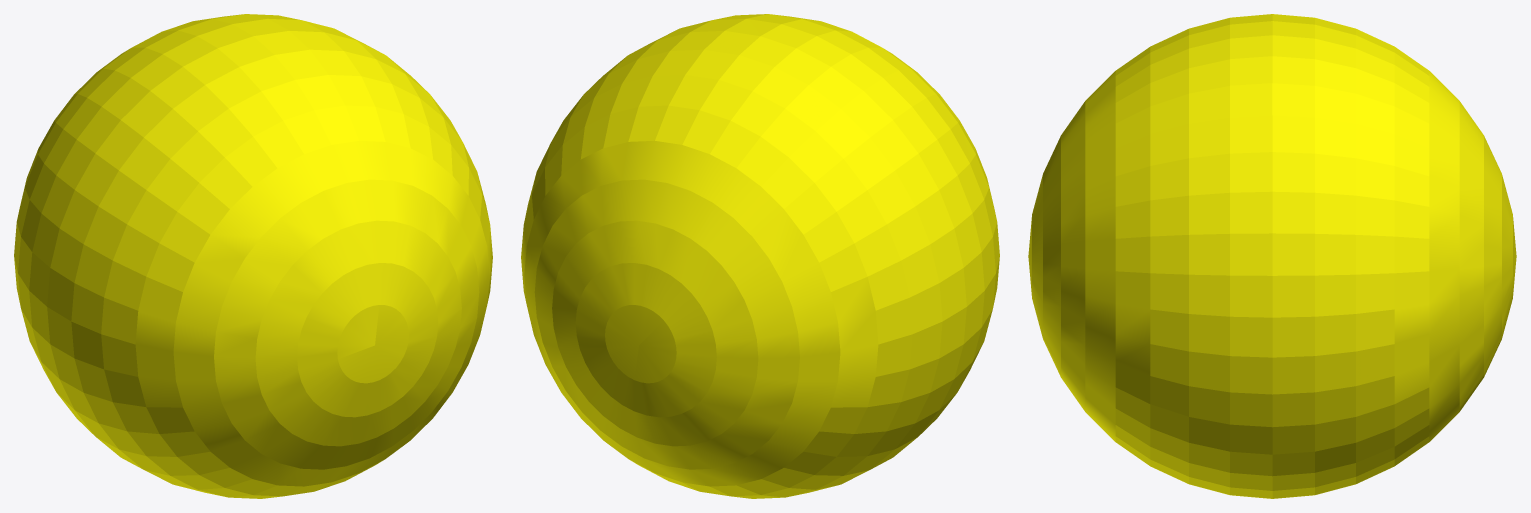
The model's file is sole.gltf.
3 renders of one model, left to right at view 1: azimuth 30°, elevation 25°; view 2: azimuth 150°, elevation 25°; view 3: azimuth 270°, elevation 25°, orthographic.
Parts seen in each view (by area): view 1: sole; view 2: sole; view 3: sole.
Boxes of the visible parts, x1,y1,x2,y2 form: sole: [14, 14, 492, 498]; sole: [521, 14, 999, 498]; sole: [1028, 14, 1516, 498].
Size of the model in its own units: 0.5 by 0.51 by 0.51.
